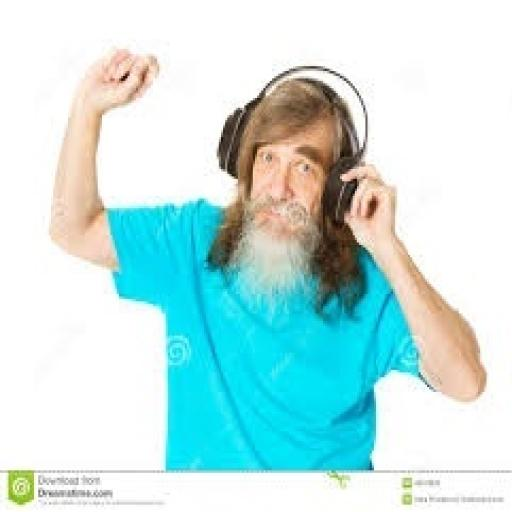listening_to_music: (44, 42, 488, 470)
